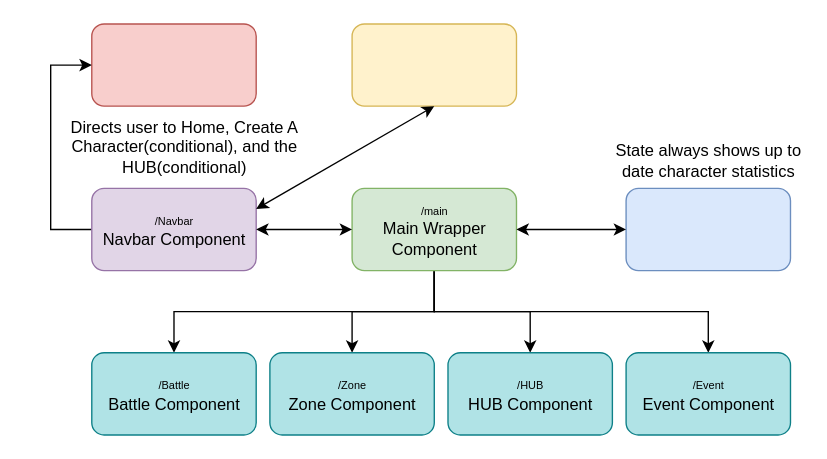
The diagram is 827 pixels wide and 459 high, and some of its shapes have lost their labels. Each missing label, with the centre of its shape:
"/CreateCharacter Create a Character" belongs at point (173, 64).
"/Home HomePage" belongs at point (433, 64).
"/MainPanel Main Panel Component" belongs at point (707, 229).
